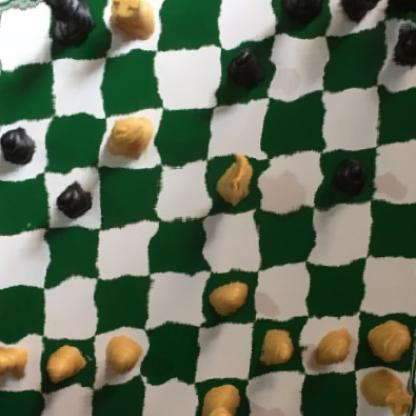black-bishop: (278, 0, 332, 32)
black-king: (40, 0, 99, 57)
black-knight: (340, 0, 389, 28)
black-pawn: (323, 155, 371, 199), (225, 45, 262, 96), (55, 180, 94, 224), (0, 126, 37, 171), (388, 15, 416, 71)
black-rook: (384, 0, 416, 21)
white-king: (195, 385, 243, 416)
white-knight: (211, 148, 256, 210)
white-pawn: (254, 321, 302, 373), (362, 318, 416, 361), (43, 340, 88, 389), (310, 326, 355, 371), (100, 334, 142, 377), (0, 334, 35, 385), (212, 274, 252, 317)
white-queen: (105, 110, 162, 169)
white-rook: (352, 363, 414, 416), (105, 0, 155, 49)
